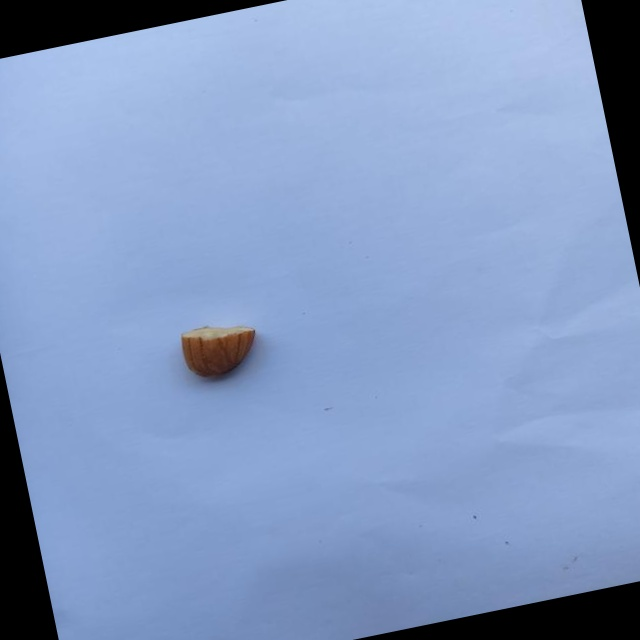grade4: (171, 311, 273, 391)
